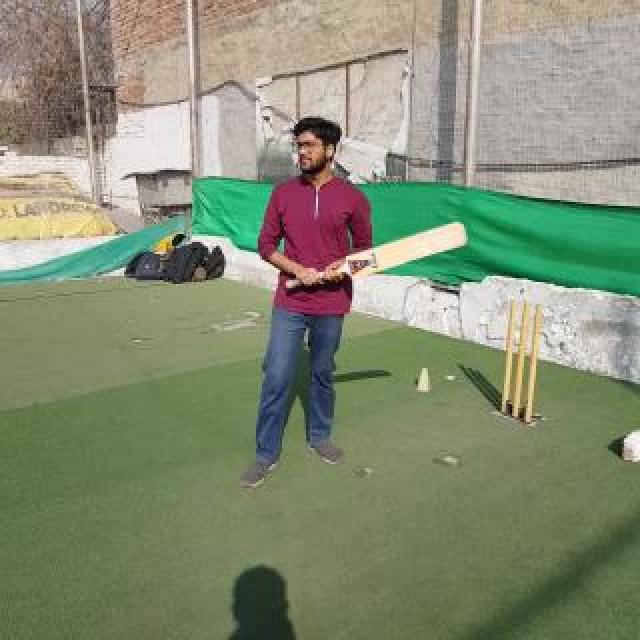bat: (284, 220, 468, 292)
